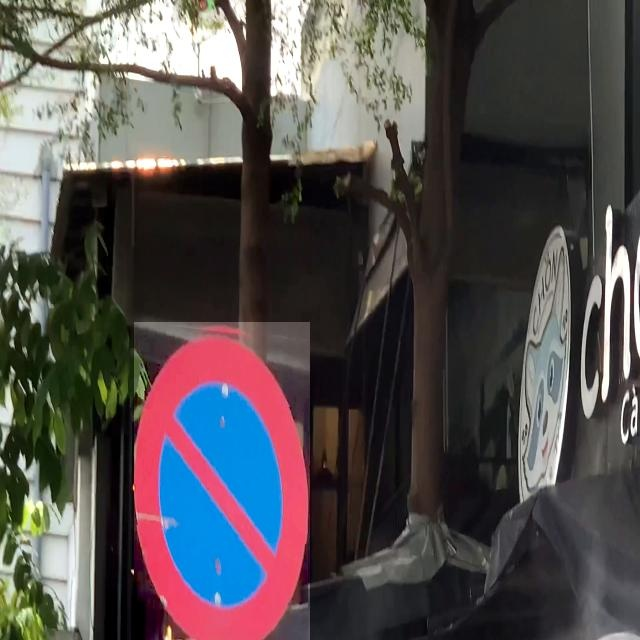bien_cam: (134, 322, 310, 640)
